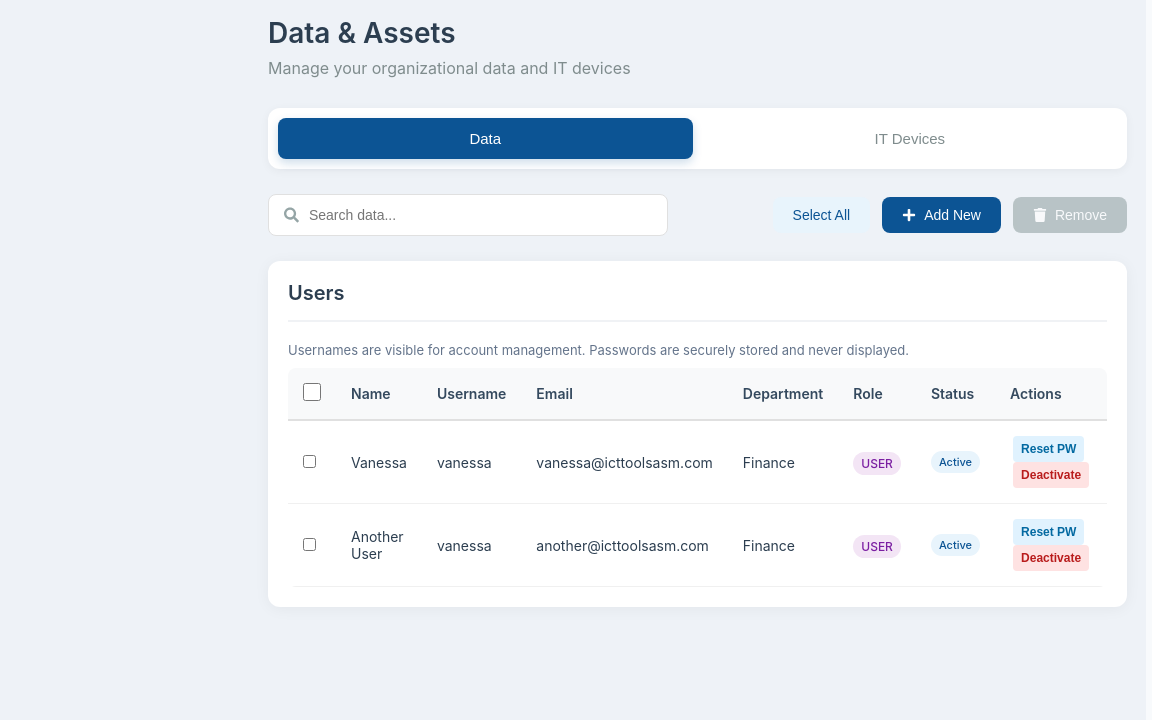
partial deletion keeps rejected users and displays the backend reason
This screenshot has width=1152, height=720.
Check: the text "Vanessa" is shown, box x1=336 y1=420 x2=422 y2=504
Step 1. Click the button "Select All" → (821, 215), box x1=773 y1=197 x2=870 y2=233
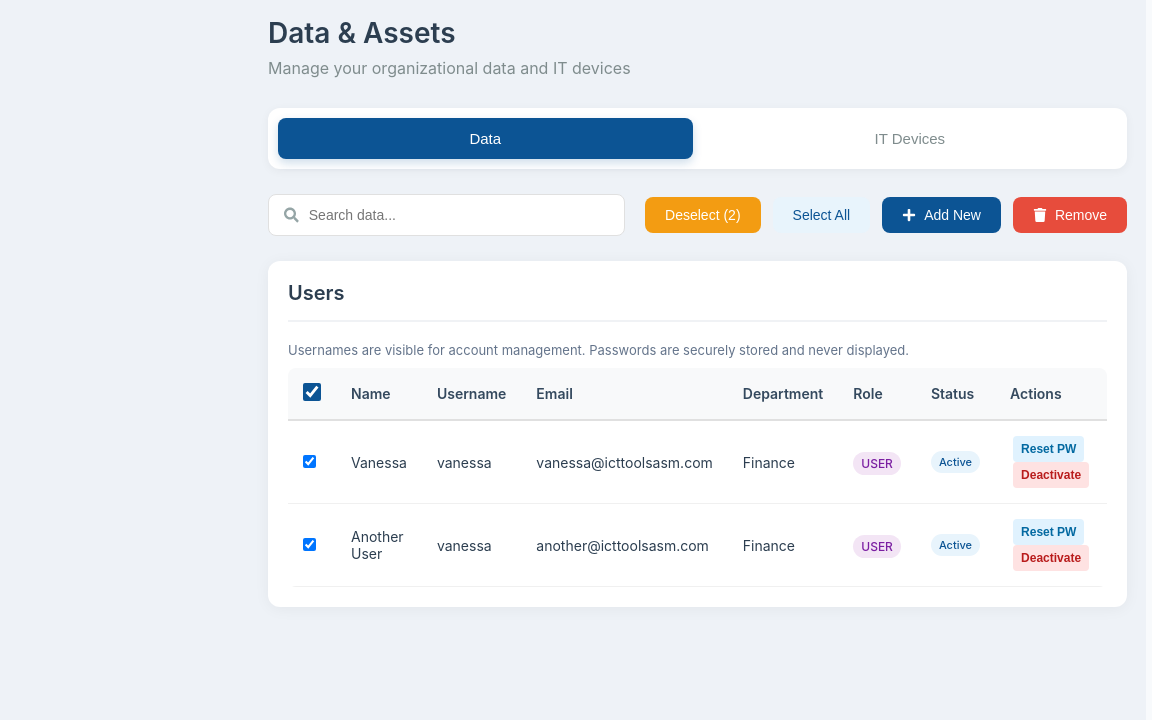
Step 2. Click the button "Remove" → (1070, 215), box x1=1013 y1=197 x2=1127 y2=233
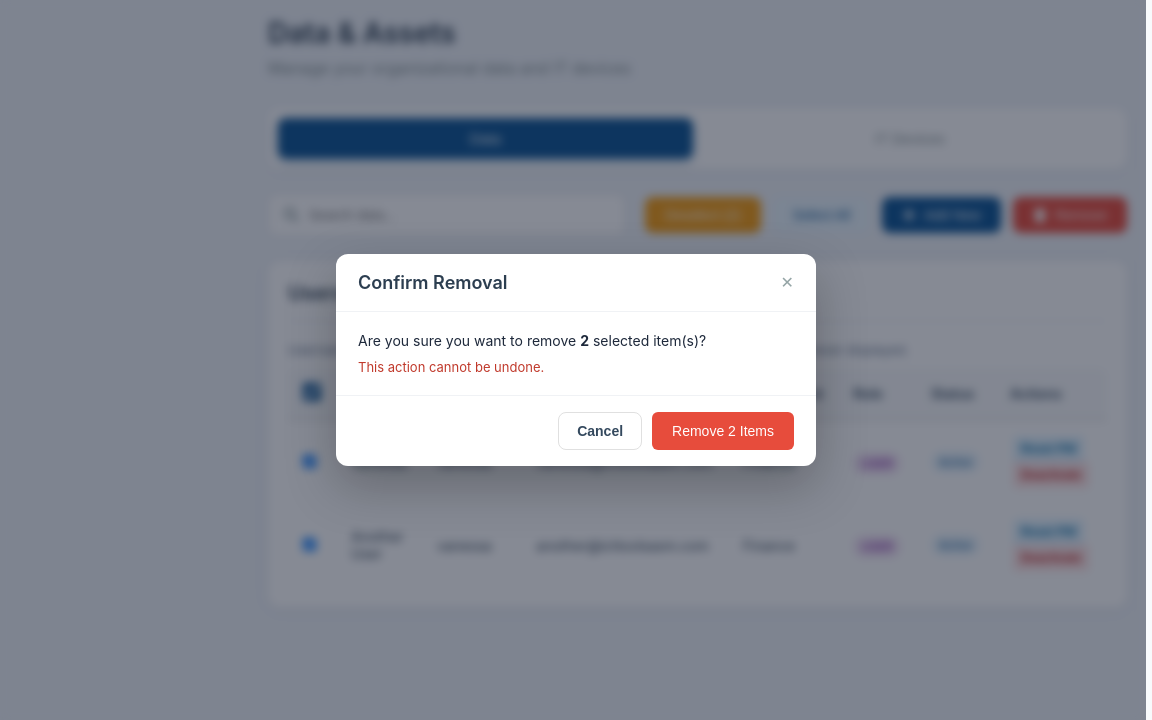
Step 3. Click the button "Remove 2 Items" → (723, 431), box x1=652 y1=412 x2=794 y2=450
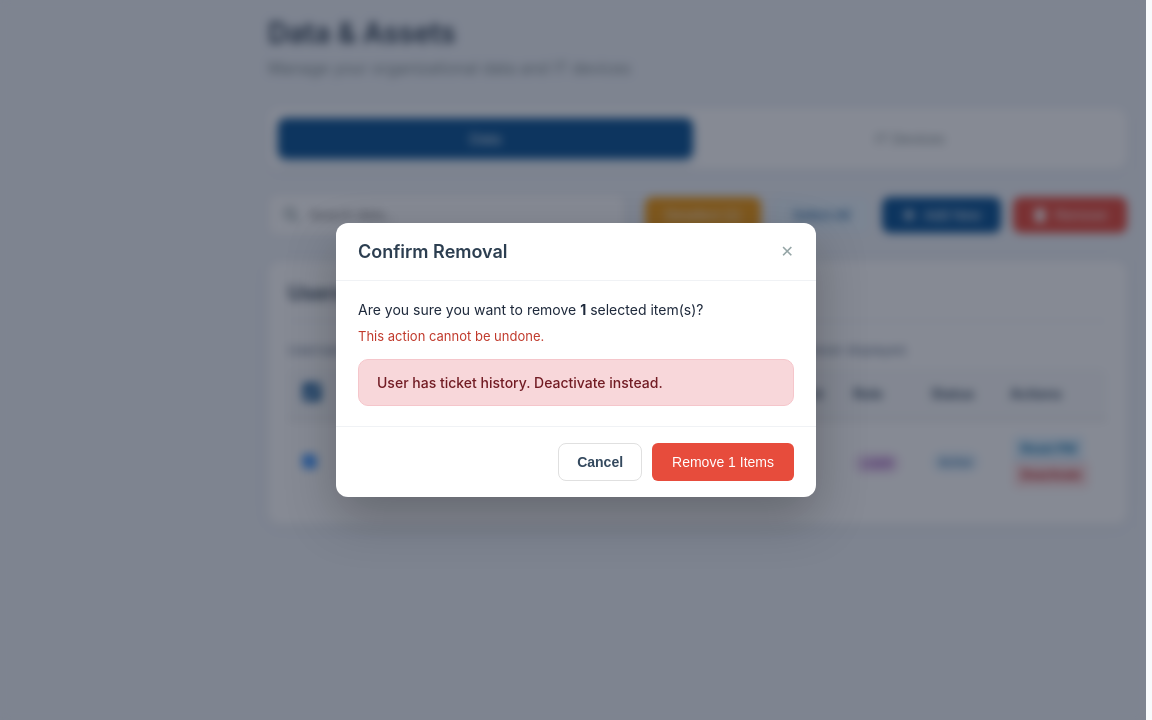
Check: the text "Vanessa" is shown, box x1=336 y1=420 x2=422 y2=504
Check: the message shows "Deactivate instead.", box x1=377 y1=374 x2=663 y2=391
Check: the button "Remove 1 Items" is shown, box x1=652 y1=443 x2=794 y2=481
